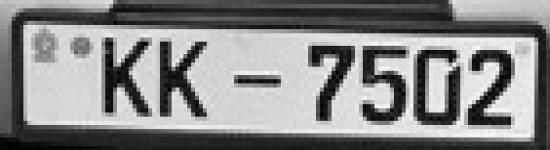-: (225, 68, 290, 98)
0: (408, 38, 466, 133)
2: (464, 42, 522, 135)
5: (358, 40, 411, 129)
7: (298, 39, 358, 130)
K: (95, 32, 158, 125), (156, 32, 216, 124)
